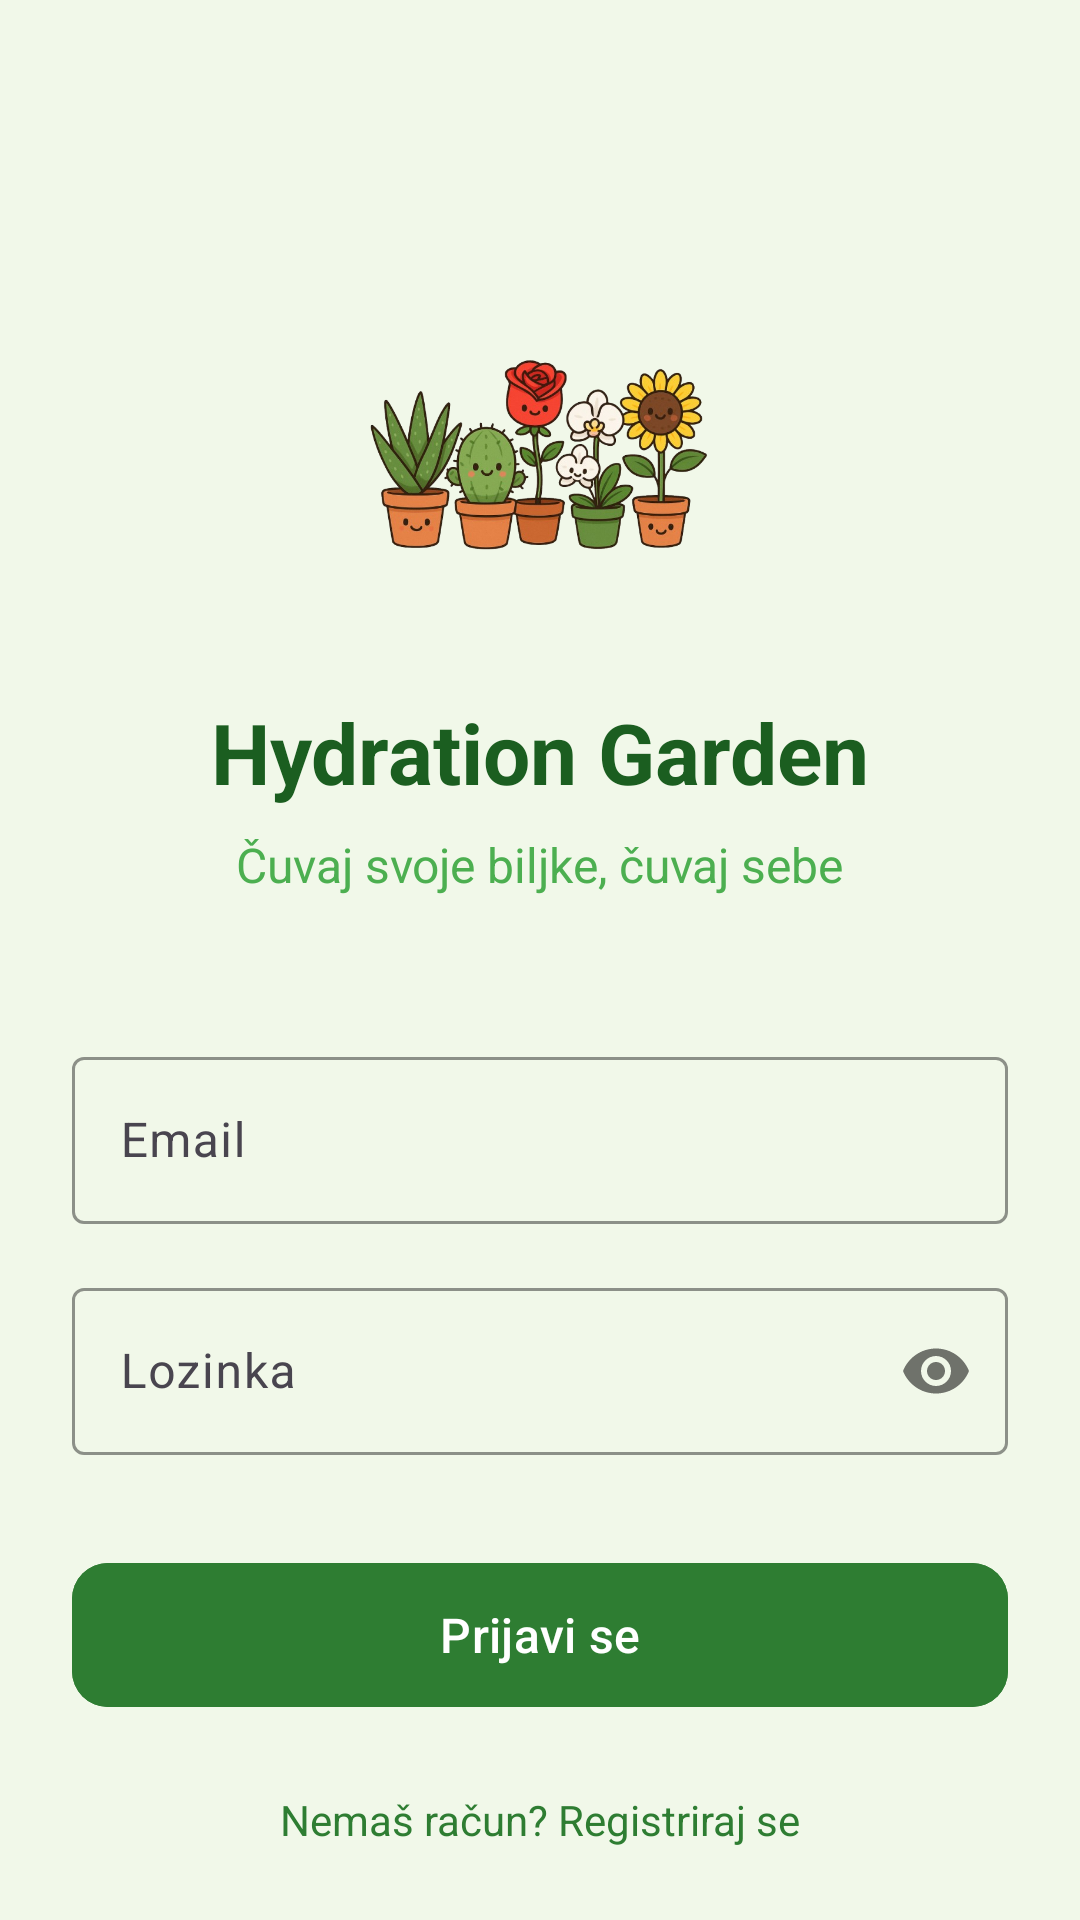

Point at icon controls on the screen. Image size 1080 × 1920, points as (x,y).
flowers: (538,455)
